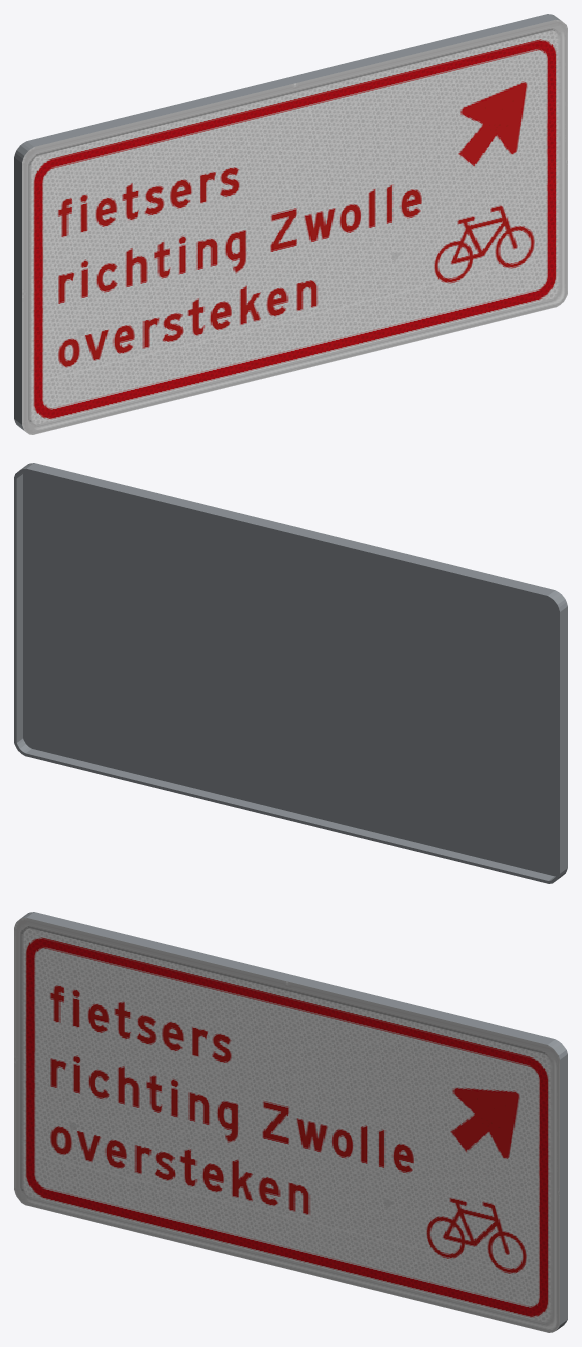
3 views of the same model, one above another, from view 1: azimuth 30°, elevation 25°; view 2: azimuth 150°, elevation 25°; view 3: azimuth 330°, elevation 25° (orthographic).
Parts seen in each view (by area): view 1: cat_4ae443b62d68e728; view 2: cat_4ae443b62d68e728; view 3: cat_4ae443b62d68e728.
Part boxes in pixels (<box>): cat_4ae443b62d68e728: <box>14,14,567,434</box>; cat_4ae443b62d68e728: <box>14,463,567,883</box>; cat_4ae443b62d68e728: <box>14,912,567,1332</box>.
Bounding box in the file's own units: 0.6 × 0.015 × 0.3021.
Materials: 2 (1 with a texture image).
